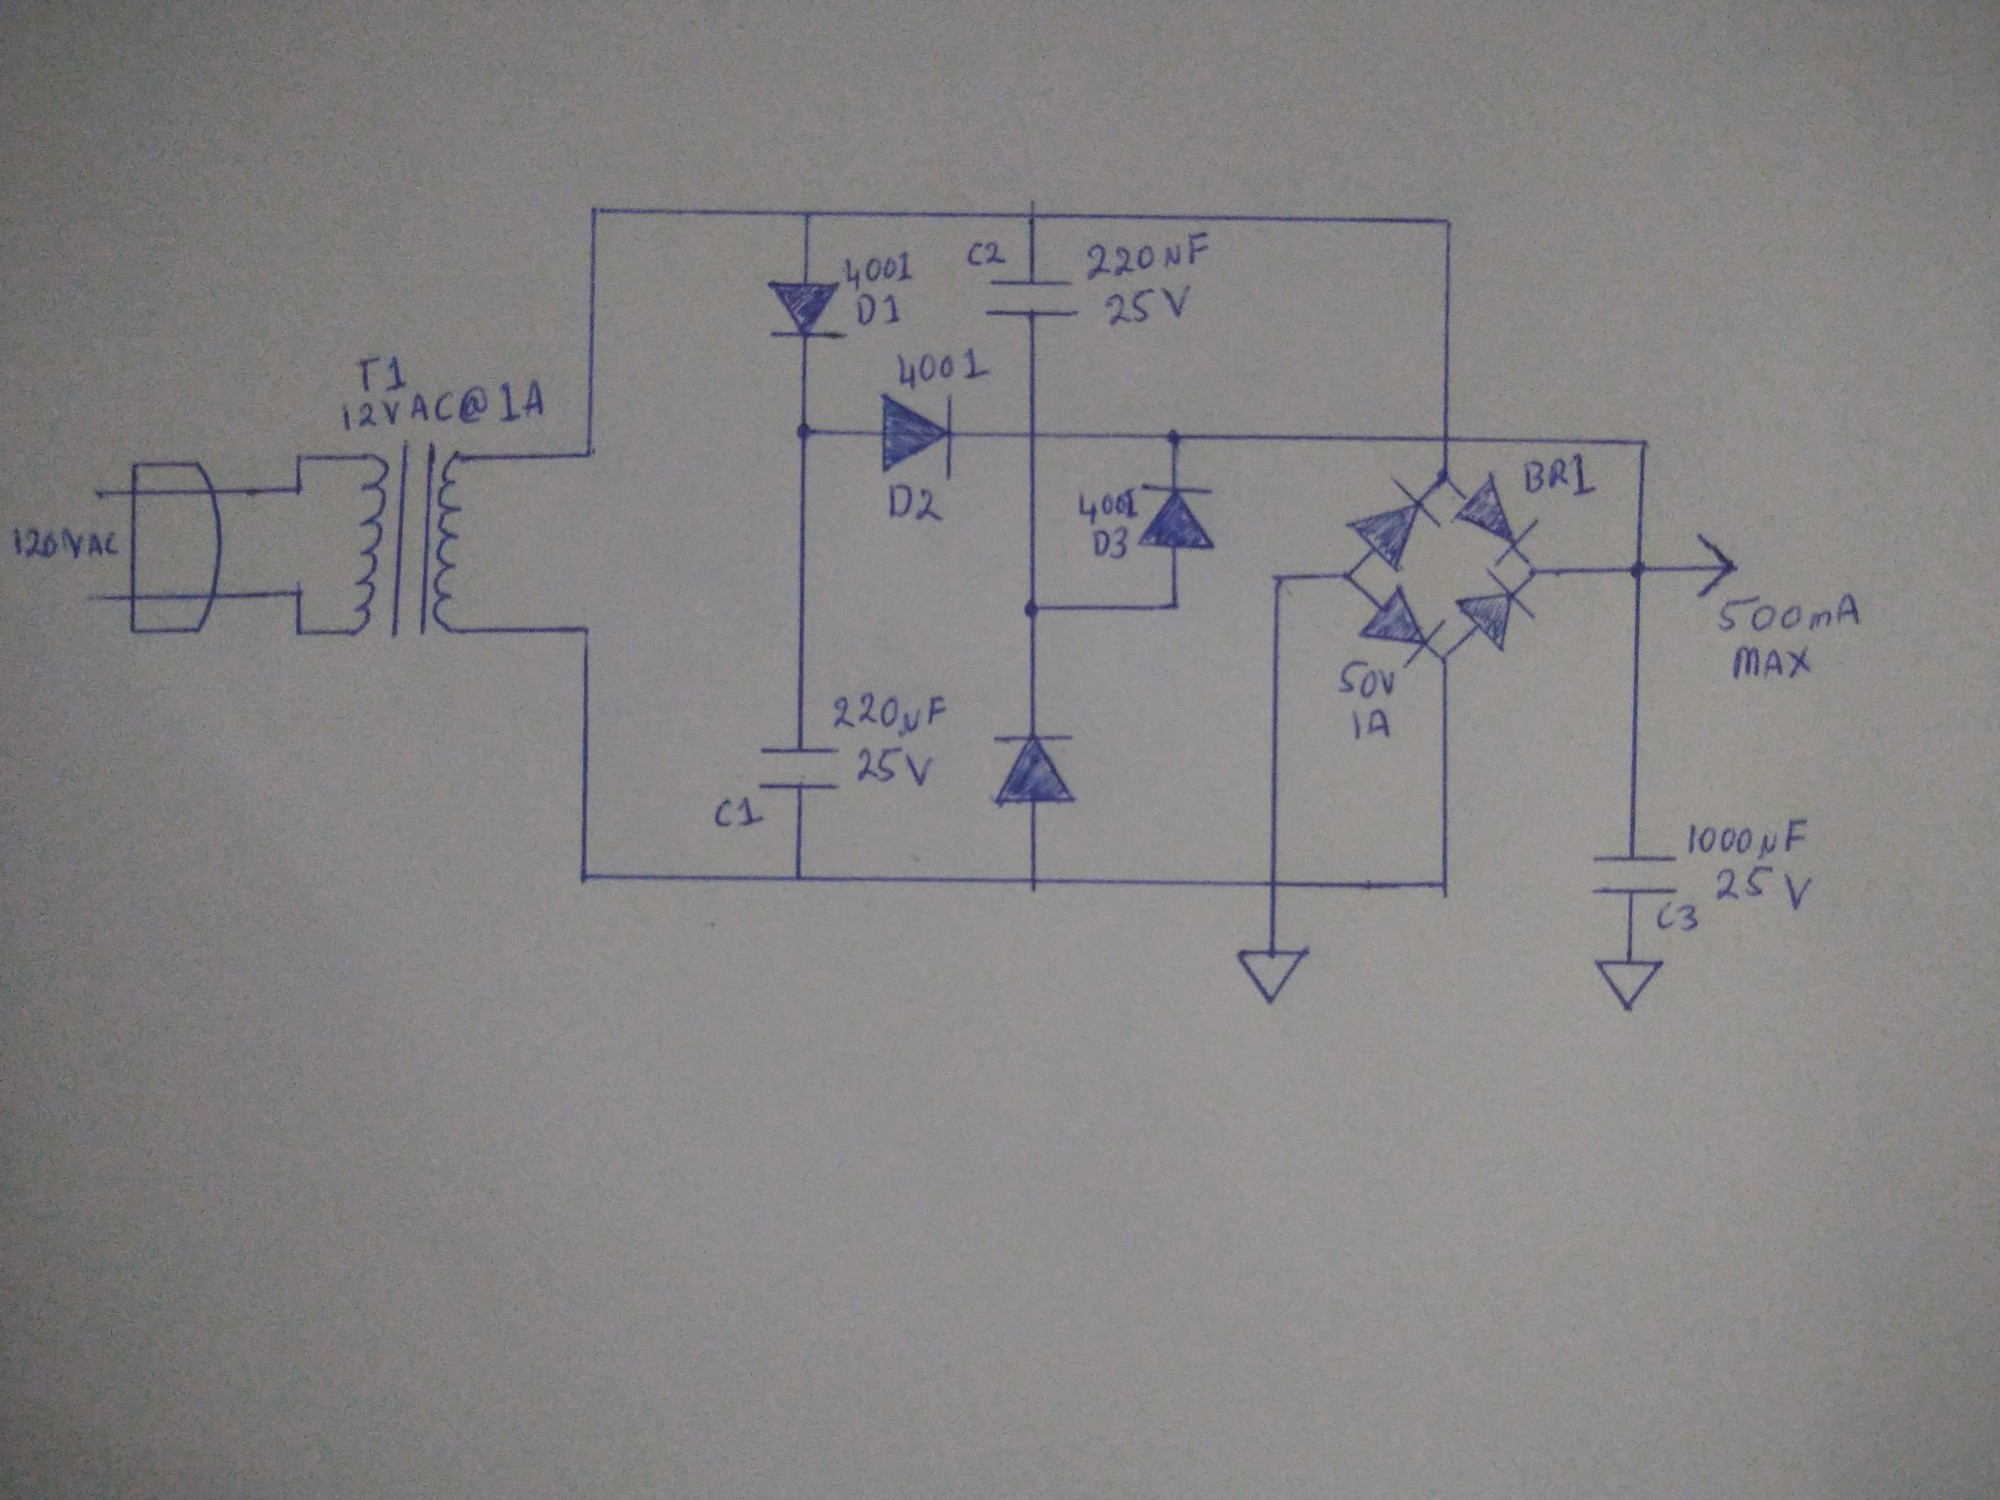capacitor.unpolarized: (754, 739, 847, 800), (1591, 852, 1680, 898), (984, 277, 1080, 320)
crossover: (1435, 429, 1458, 449), (1024, 429, 1043, 447), (1265, 874, 1283, 890)
diode: (1345, 474, 1443, 570), (1461, 466, 1551, 556), (989, 730, 1087, 811), (1454, 567, 1539, 652), (1357, 585, 1446, 666), (879, 392, 957, 482), (764, 276, 850, 342), (1139, 482, 1220, 551)
junction: (1159, 425, 1187, 454), (794, 419, 822, 447), (1020, 599, 1049, 626), (1431, 873, 1457, 897), (1628, 556, 1650, 581), (1162, 592, 1184, 616), (1024, 206, 1046, 228), (1266, 567, 1287, 589), (576, 865, 595, 889), (1025, 874, 1046, 895), (1435, 466, 1455, 485), (1435, 648, 1454, 666), (1438, 214, 1455, 232), (1524, 566, 1543, 581), (791, 870, 806, 889), (1635, 433, 1650, 451), (800, 206, 816, 224), (587, 202, 603, 219), (580, 621, 595, 638), (293, 451, 310, 466), (1339, 567, 1354, 583), (290, 484, 309, 496), (290, 626, 306, 640), (291, 586, 304, 600), (583, 447, 595, 460)
socket: (128, 459, 228, 640)
terminal: (1235, 947, 1310, 1012), (1591, 958, 1666, 1016), (1693, 529, 1742, 600), (80, 481, 112, 509), (79, 585, 109, 613)
text: (342, 380, 551, 435), (1720, 589, 1861, 637), (1083, 232, 1209, 280), (828, 689, 948, 737), (1687, 815, 1806, 859), (1713, 862, 1816, 912), (893, 347, 994, 394), (9, 525, 124, 562), (854, 744, 937, 793), (1106, 285, 1195, 328), (1523, 452, 1598, 499), (1731, 640, 1814, 682), (844, 251, 921, 291), (885, 481, 948, 525), (1332, 659, 1400, 700), (1074, 484, 1139, 525), (353, 355, 409, 394), (710, 794, 765, 830), (1350, 703, 1395, 745), (852, 291, 902, 329), (1655, 898, 1706, 934), (1091, 525, 1131, 562), (965, 239, 1011, 269)
transformer: (350, 435, 469, 643)
